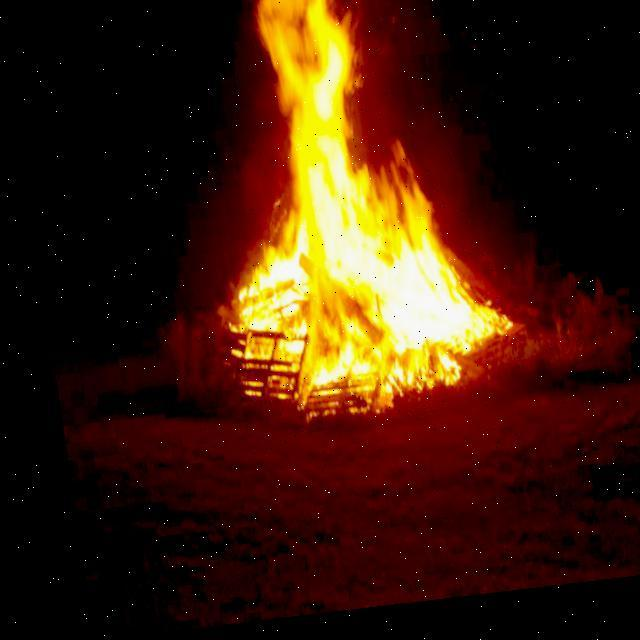Fire: (168, 0, 508, 433)
